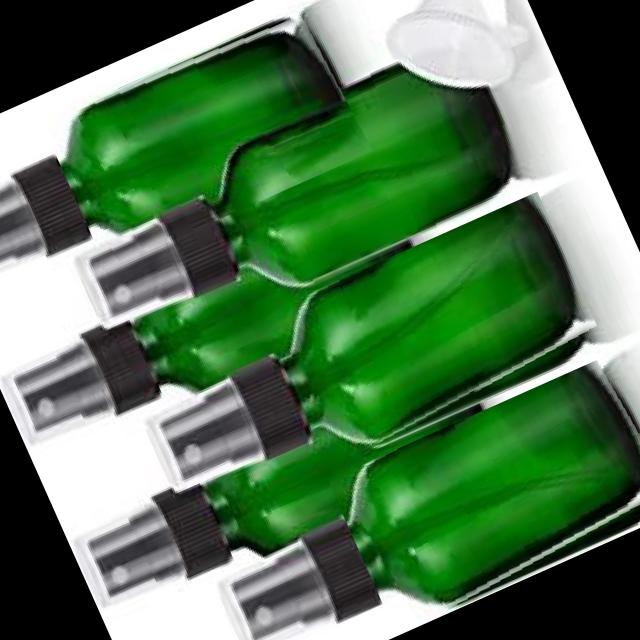Glass: (182, 28, 534, 312), (254, 191, 607, 474), (40, 0, 373, 268), (327, 353, 640, 636)
